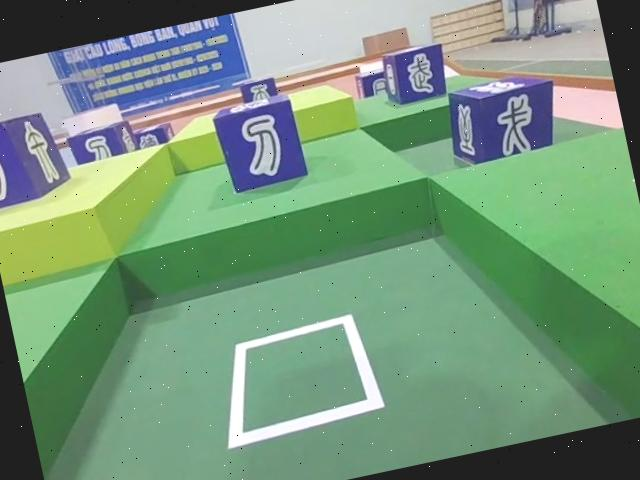R2 Fake Blue: (440, 68, 566, 169), (209, 93, 311, 199), (0, 109, 72, 215), (379, 40, 451, 108), (65, 118, 139, 167), (236, 75, 280, 107)
